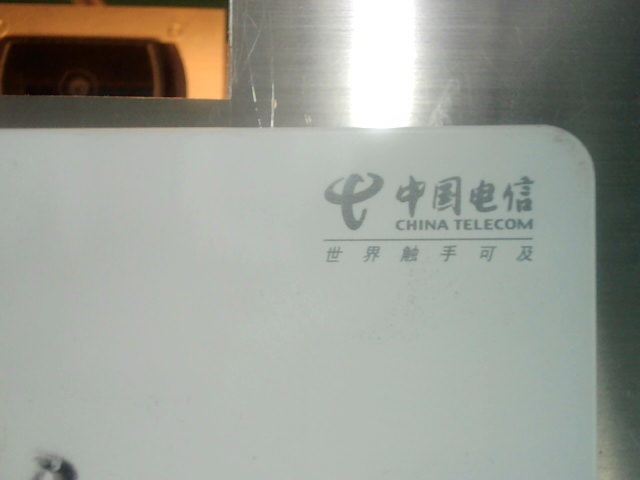AB_ChinaTelecom: (313, 164, 545, 268)
